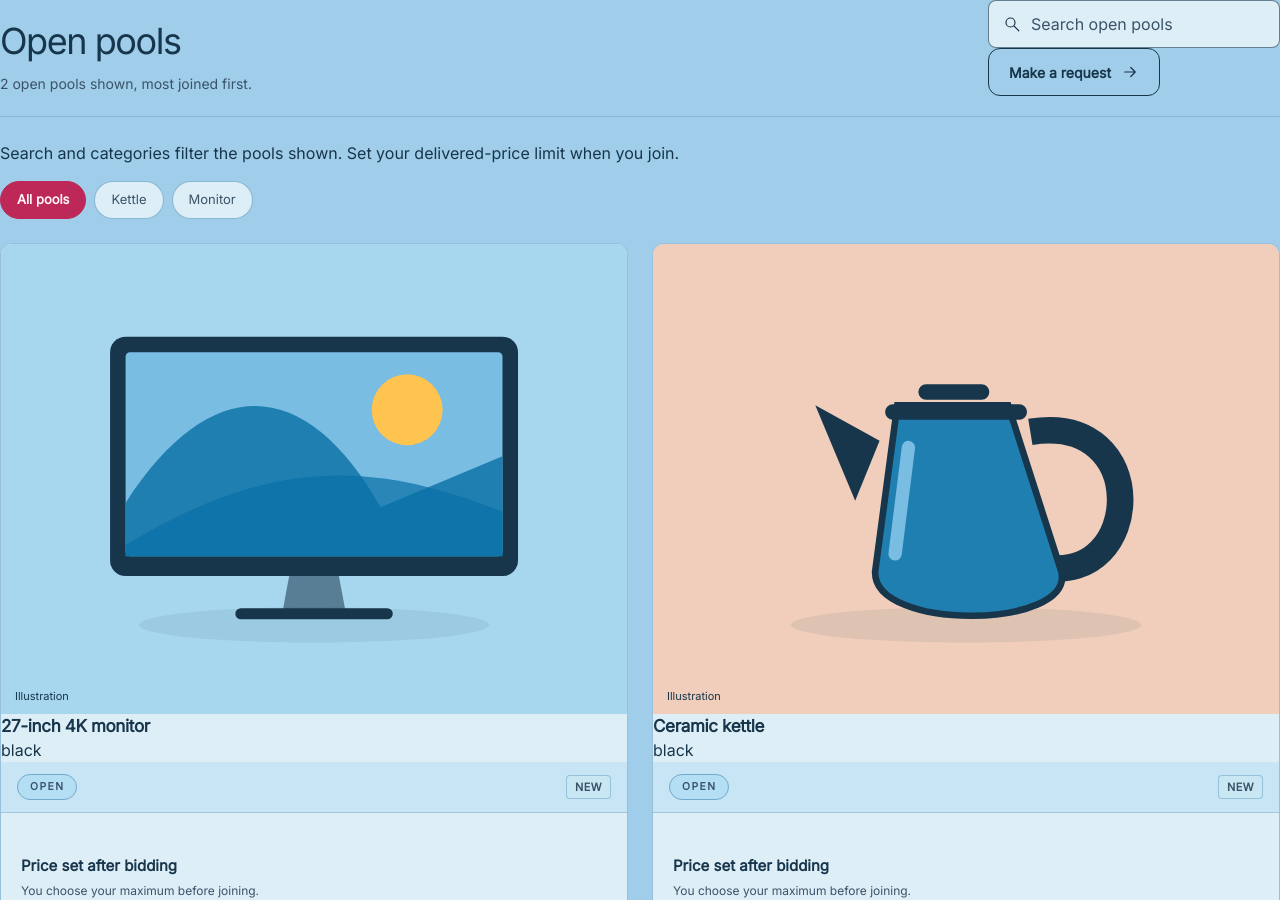
Scenario: Discover and Join › filters the loaded catalogue without losing pools when the search is cleared
This screenshot has width=1280, height=900.
Expected: the heading "Ceramic kettle" is shown, x1=653 y1=716 x2=764 y2=736
Step 1. Type "kettle" into the search field labelled "Search open pools" → (1148, 24), box x1=1031 y1=1 x2=1265 y2=47
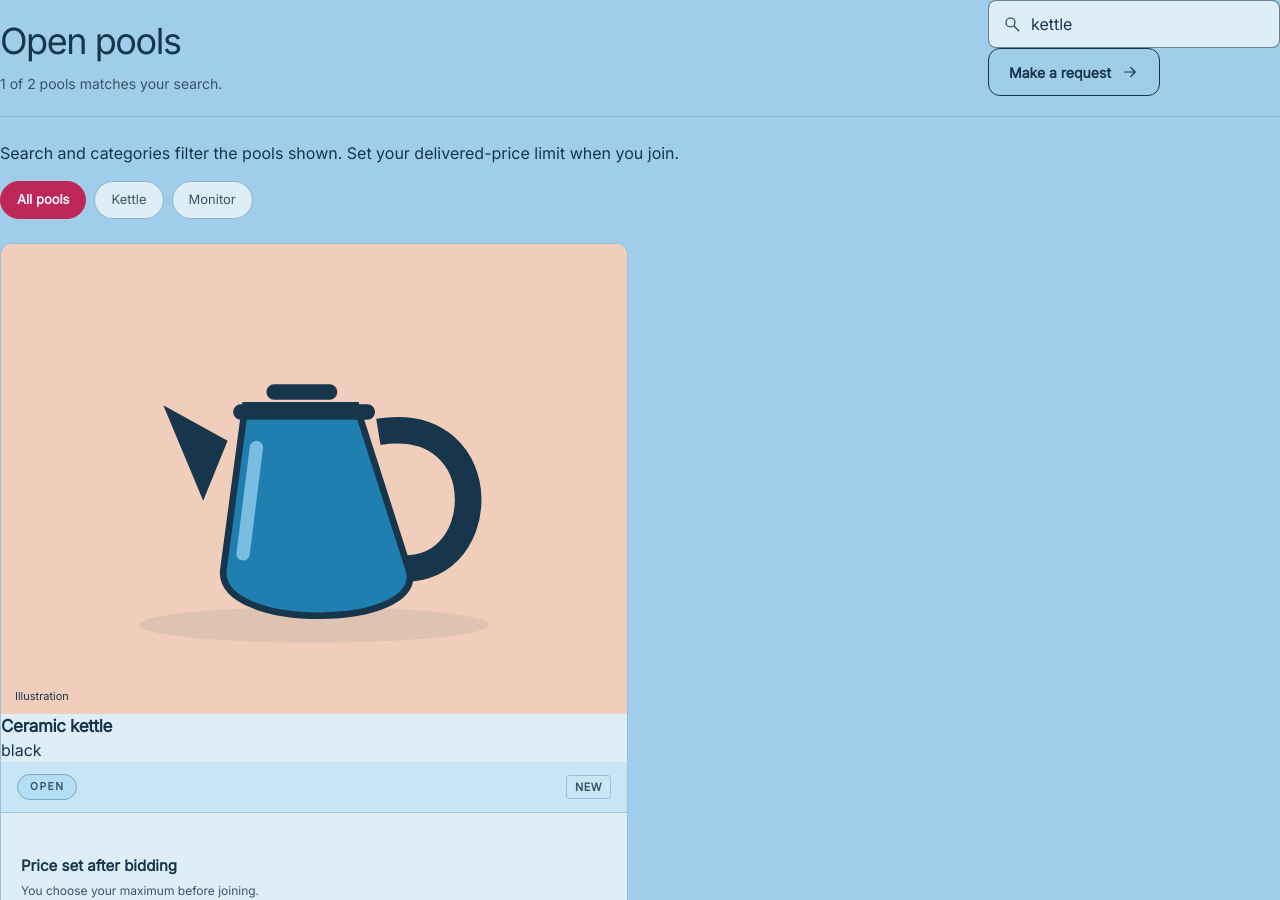
Expected: the heading "Ceramic kettle" is shown, x1=1 y1=716 x2=112 y2=736
Result: the message named "Pool search results" shows "1 of 2 pools matches your search" at x1=0 y1=75 x2=222 y2=92
Result: the link "27-inch 4K monitor" is gone
Step 2. Replace the text in the search field named "Search open pools" with "does not exist" → (1148, 24), box x1=1031 y1=1 x2=1265 y2=47
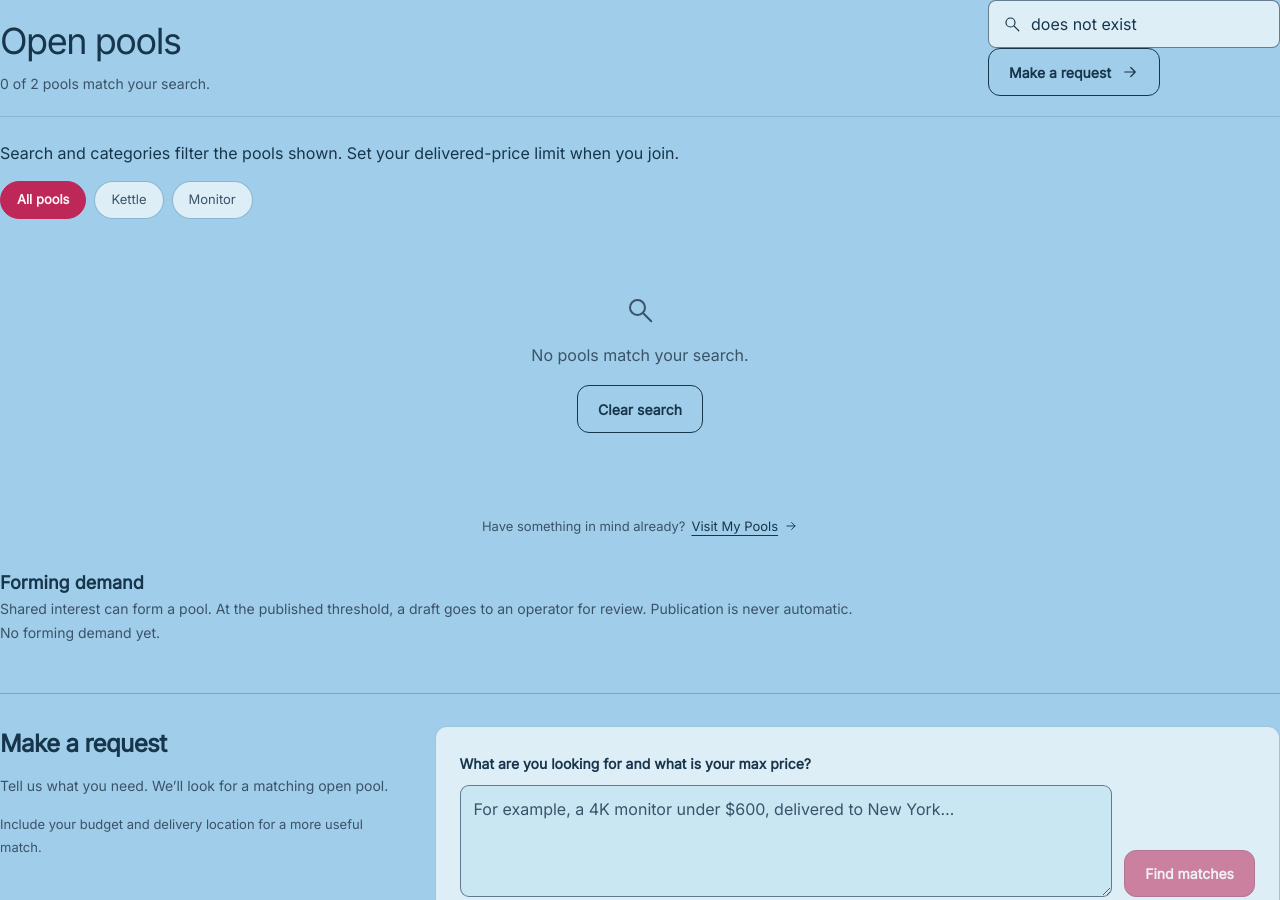
Result: the text "No pools match your search." is shown at x1=531 y1=343 x2=749 y2=367
Step 3. Click the button "Clear search" → (640, 409), box x1=577 y1=385 x2=703 y2=433
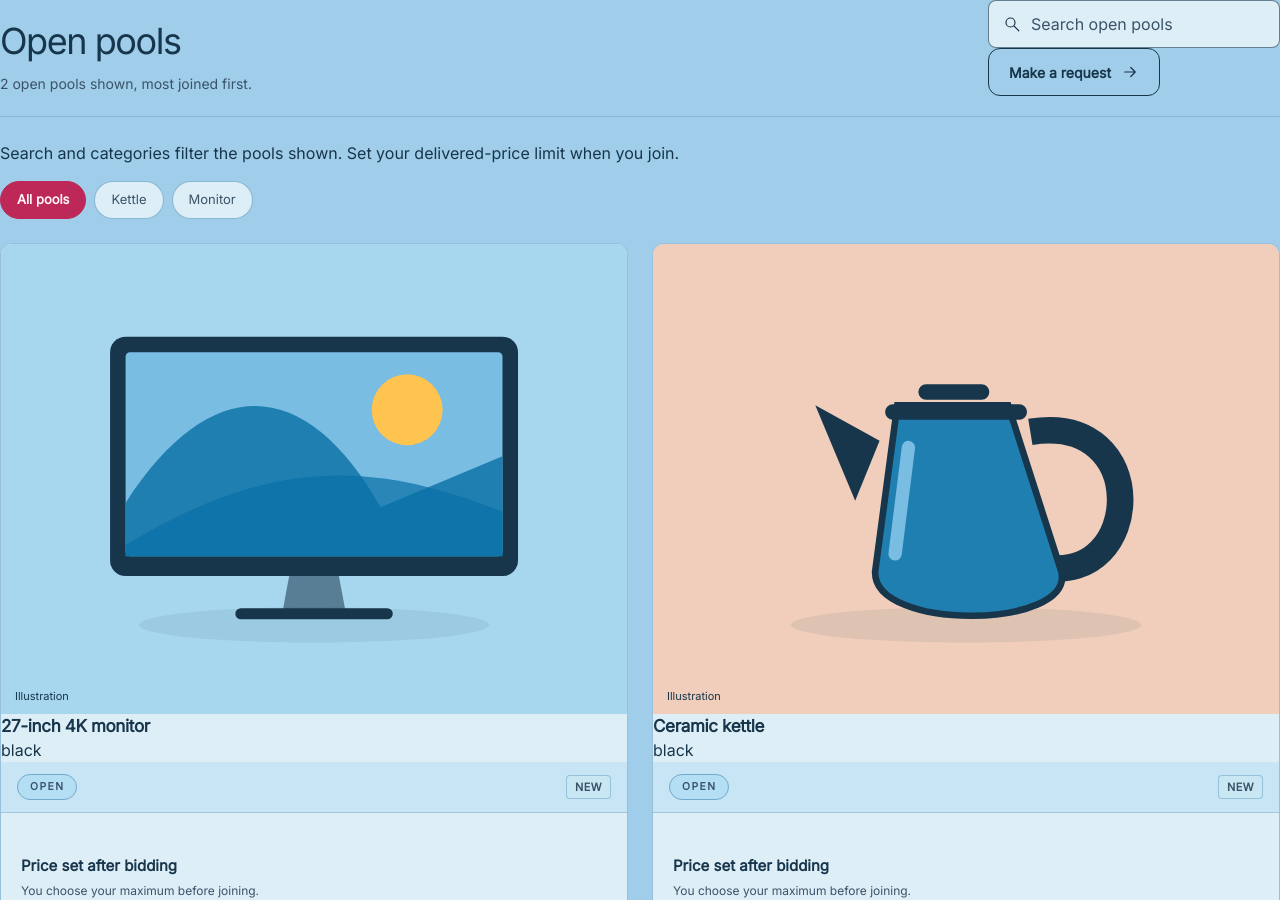
Result: the heading "27-inch 4K monitor" is shown at x1=1 y1=716 x2=150 y2=736
Result: the heading "Ceramic kettle" is shown at x1=653 y1=716 x2=764 y2=736
